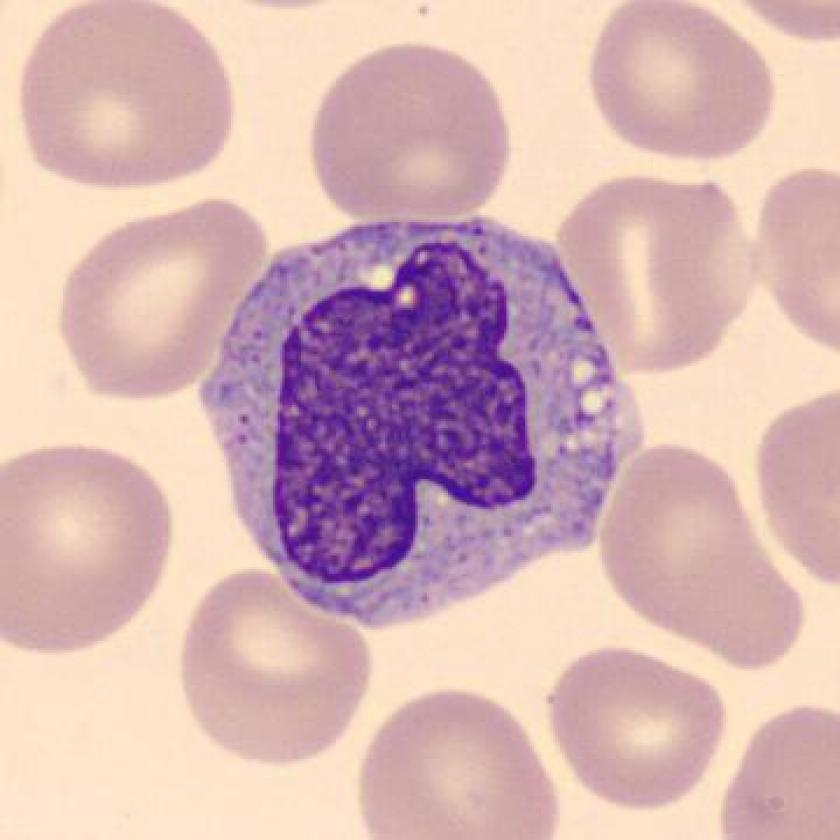monocyte: (176, 193, 661, 644)
